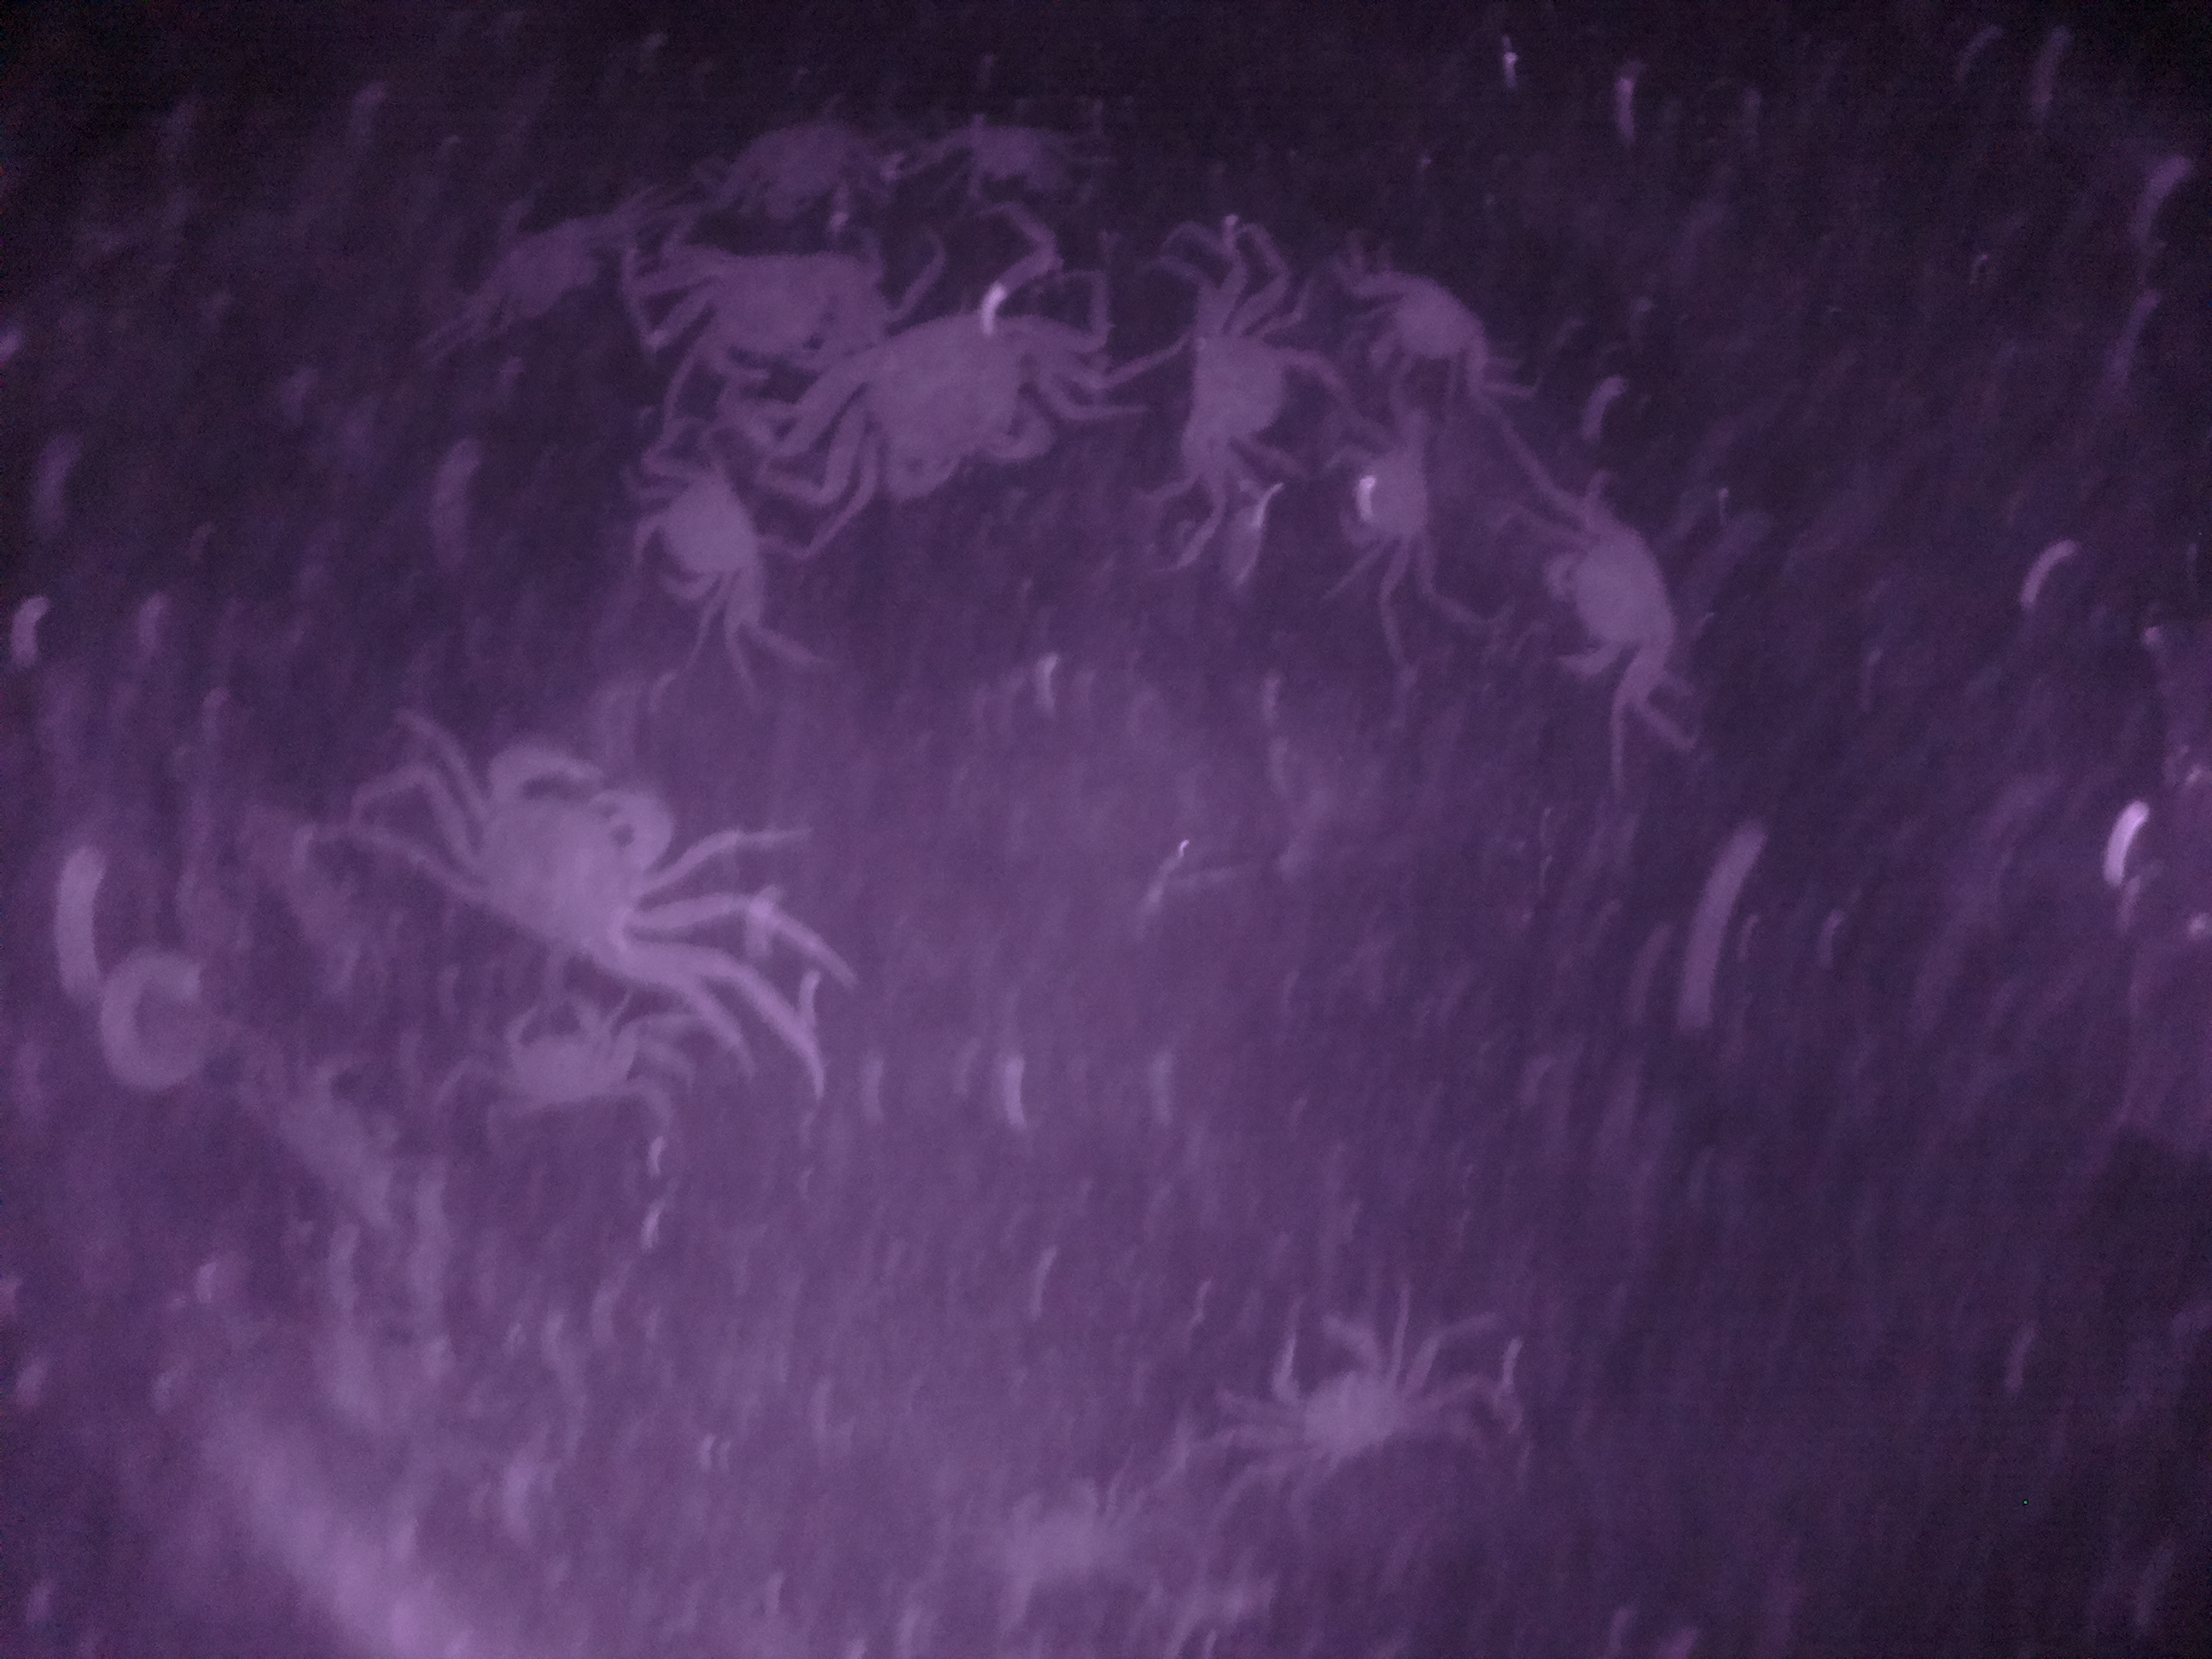Crab: (1228, 1284, 1439, 1492), (1533, 493, 1693, 687), (1177, 293, 1310, 519), (1324, 415, 1446, 577)
